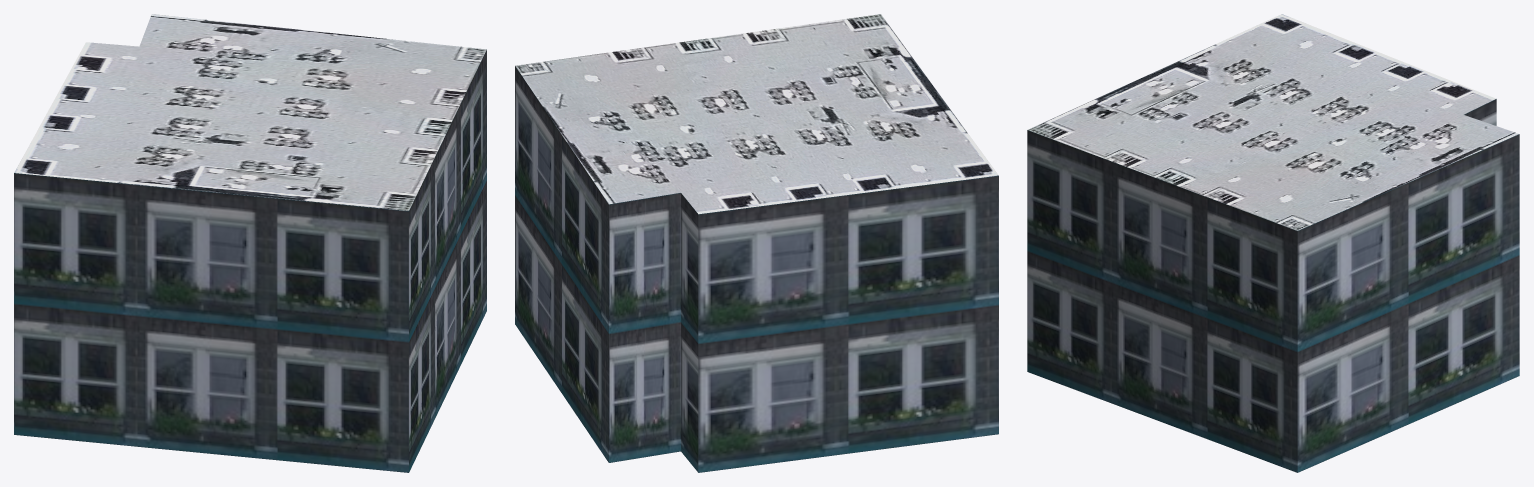
The model's file is ResTex__842.fbx.
3 views of the same model, side by side, from view 1: azimuth 30°, elevation 25°; view 2: azimuth 150°, elevation 25°; view 3: azimuth 270°, elevation 25° (orthographic). The views are drawn at different scales.
Parts seen in each view (by area): view 1: CityEngineMaterial_11_m, CityEngineMaterial_8_m; view 2: CityEngineMaterial_11_m, CityEngineMaterial_8_m; view 3: CityEngineMaterial_11_m, CityEngineMaterial_8_m.
Part boxes in pixels (x1,y1,x2,y2): CityEngineMaterial_11_m: (14, 49, 486, 472); CityEngineMaterial_8_m: (14, 14, 486, 210); CityEngineMaterial_11_m: (515, 66, 998, 472); CityEngineMaterial_8_m: (515, 14, 998, 214); CityEngineMaterial_11_m: (1027, 99, 1519, 472); CityEngineMaterial_8_m: (1028, 14, 1518, 230).
Bounding box in the file's own units: 11.54 × 6 × 11.06.
Materials: 2 (2 with a texture image).
